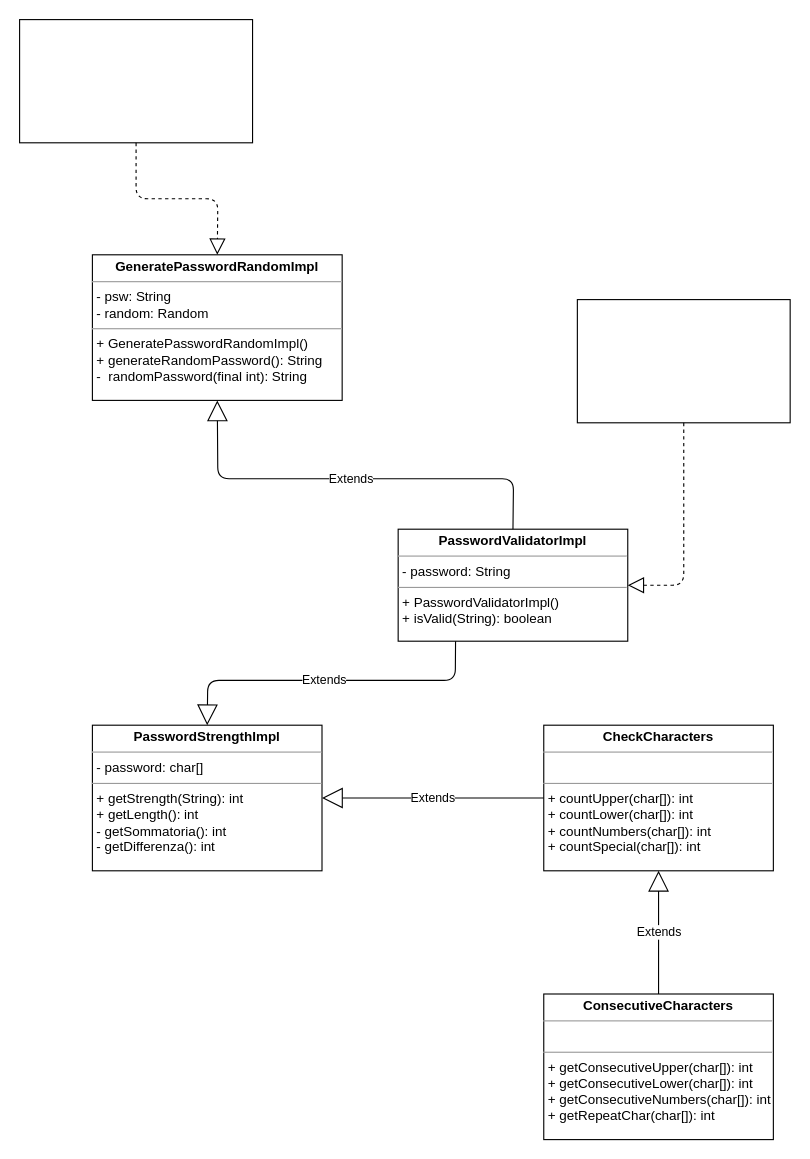
Some shapes in this 810 by 1159 pixel diagram are drawn without their labels. The centre of each missing label's shape, as x and y in pixels:
"<<Interface>> GeneratePasswordRandom + generatePassword(): String" goes at (x=135, y=80).
"<<Interface>> PasswordValidator + isValid(String): boolean" goes at (x=683, y=360).
